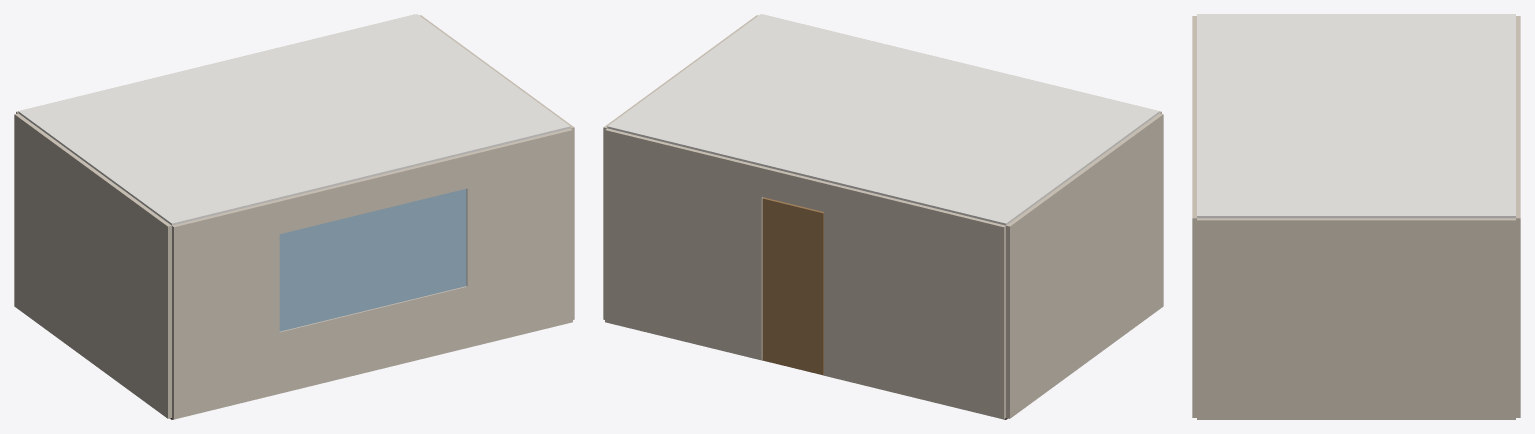
The model's file is cabin_business.glb.
3 views of the same model, side by side, from view 1: azimuth 30°, elevation 25°; view 2: azimuth 150°, elevation 25°; view 3: azimuth 270°, elevation 25° (orthographic). The views are drawn at different scales.
Visible parts, largest first — view 1: cabin_business (×3); view 2: cabin_business (×3); view 3: cabin_business (×2).
Boxes of the visible parts, bbox=[...] form: cabin_business (×3): bbox=[14, 14, 574, 419]; cabin_business (×3): bbox=[603, 14, 1163, 419]; cabin_business (×2): bbox=[1192, 14, 1520, 419].
Bounding box in the file's own units: 5.2 × 2.4 × 3.5.
